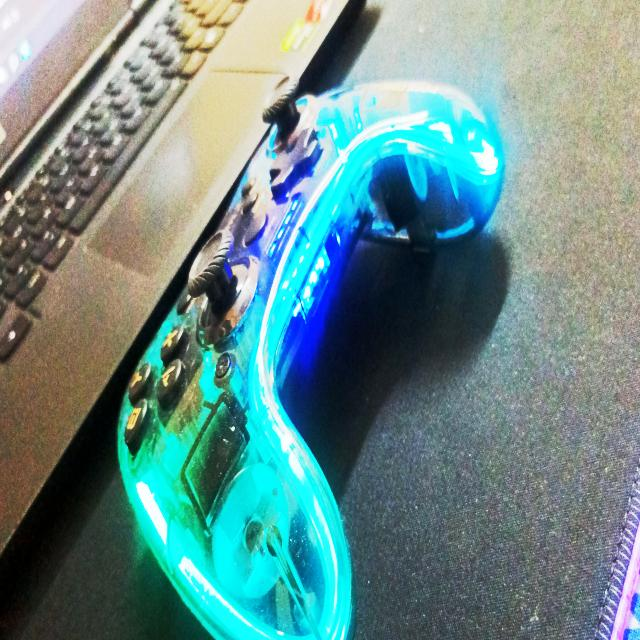gamepad: (115, 76, 506, 640)
